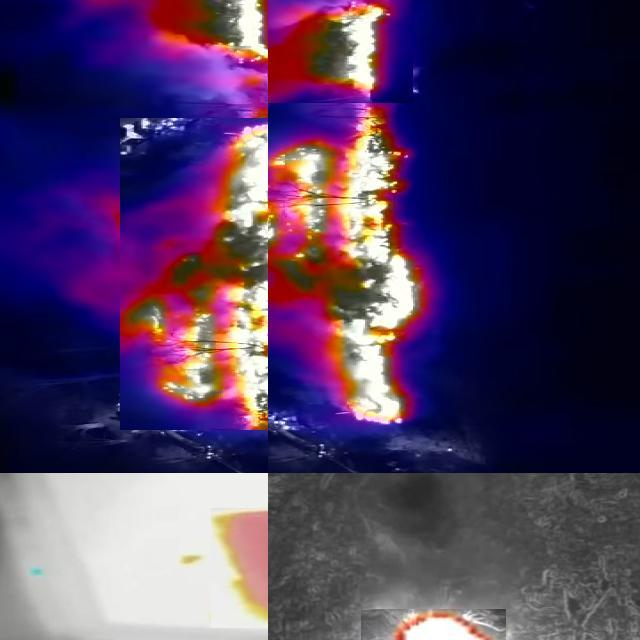fire: (269, 100, 435, 429), (121, 118, 269, 430), (269, 1, 414, 103), (151, 1, 269, 109), (212, 508, 269, 628), (362, 609, 507, 640)
